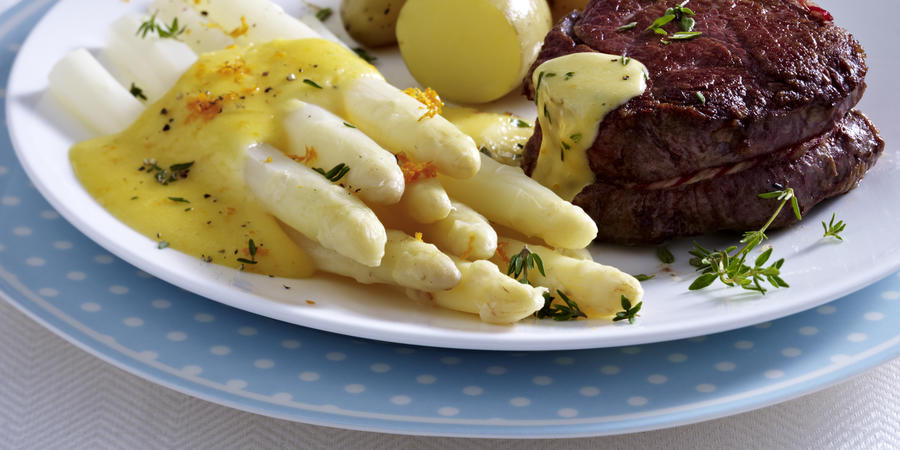boiled potatoes: (398, 7, 552, 93)
